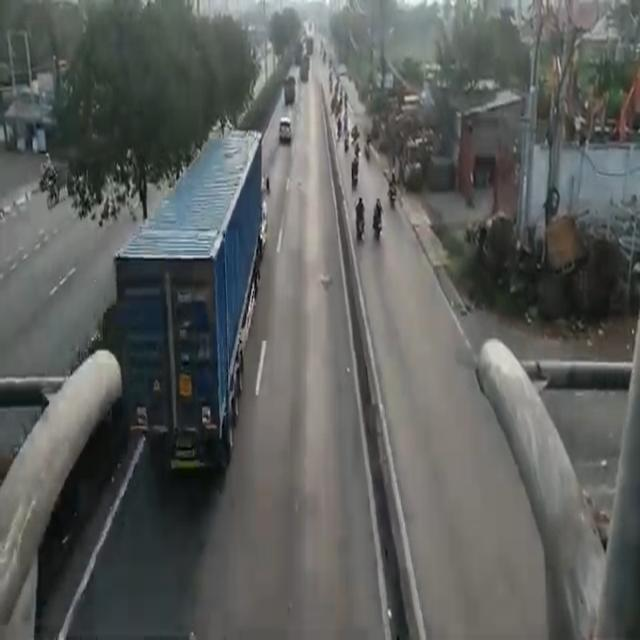car: (276, 119, 293, 144)
motor: (374, 194, 384, 251), (354, 196, 364, 239), (389, 167, 397, 204), (352, 157, 358, 195)
truck: (125, 129, 264, 471)
